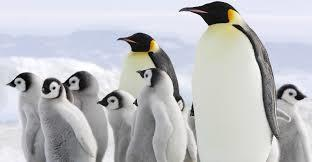emporer: (172, 0, 280, 158), (111, 26, 184, 119)
